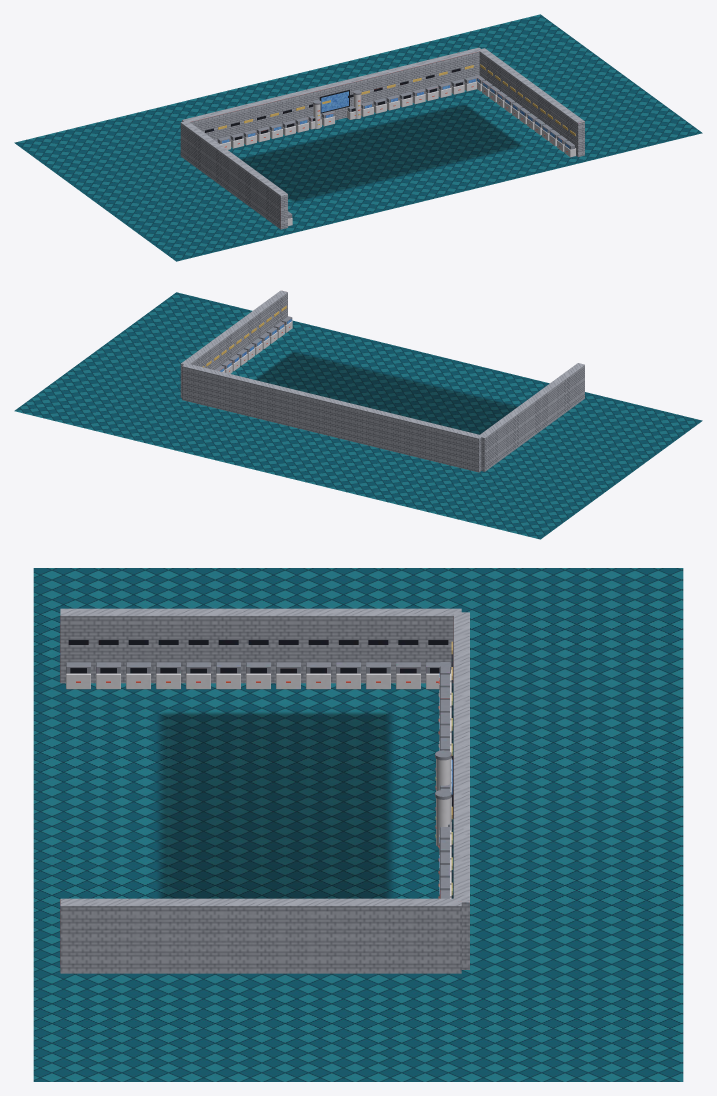
Rendered from surroundings_29x11.glb.
3 views of the same model, one above another, from view 1: azimuth 30°, elevation 25°; view 2: azimuth 150°, elevation 25°; view 3: azimuth 270°, elevation 25° (orthographic). The views are drawn at different scales.
Parts seen in each view (by area): view 1: ground, props; view 2: ground, props; view 3: ground, props.
Boxes of the visible parts, x1,y1,x2,y2 form: ground: (14, 14, 702, 261); props: (180, 47, 584, 229); ground: (14, 292, 702, 539); props: (180, 290, 584, 472); ground: (33, 568, 683, 1081); props: (60, 608, 469, 973).
Size of the model in its own units: 73 by 4.7 by 39.
Materials: 2 (2 with a texture image).
